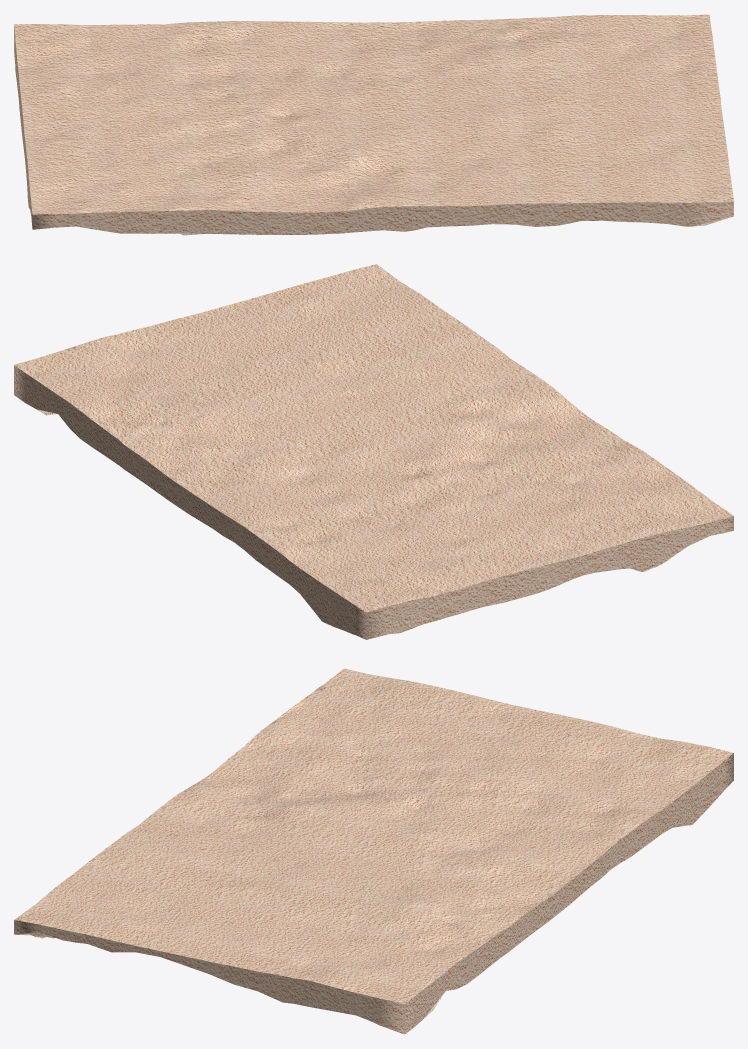
3 views of the same model, one above another, from view 1: azimuth 30°, elevation 25°; view 2: azimuth 150°, elevation 25°; view 3: azimuth 270°, elevation 25° (orthographic). The views are drawn at different scales.
Visible parts, largest first — view 1: E; view 2: E; view 3: E.
Part boxes in pixels (bbox=[...]): E: bbox=[14, 14, 733, 235]; E: bbox=[14, 264, 733, 639]; E: bbox=[14, 668, 733, 1034].
Bounding box in the file's own units: 11149 × 792 × 9970.
1 material, 1 textured.
